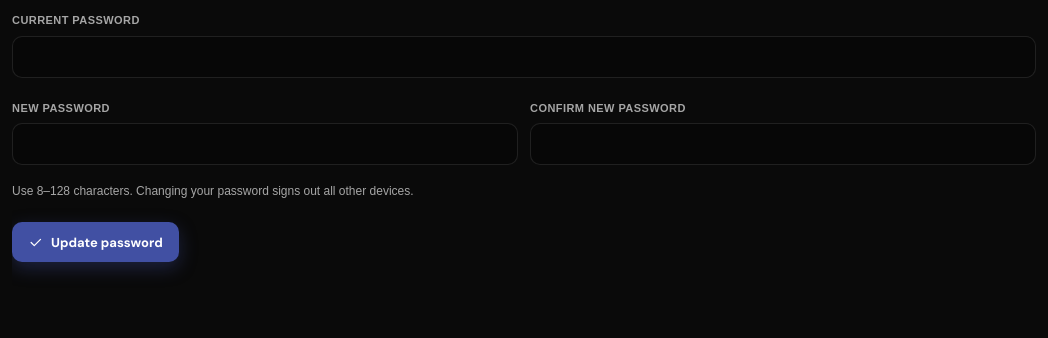
Test: account forms › shows an incorrect-password error without claiming success
Type "old-password" into the password field labelled "Current password" at (524, 56), box x1=12 y1=36 x2=1036 y2=78
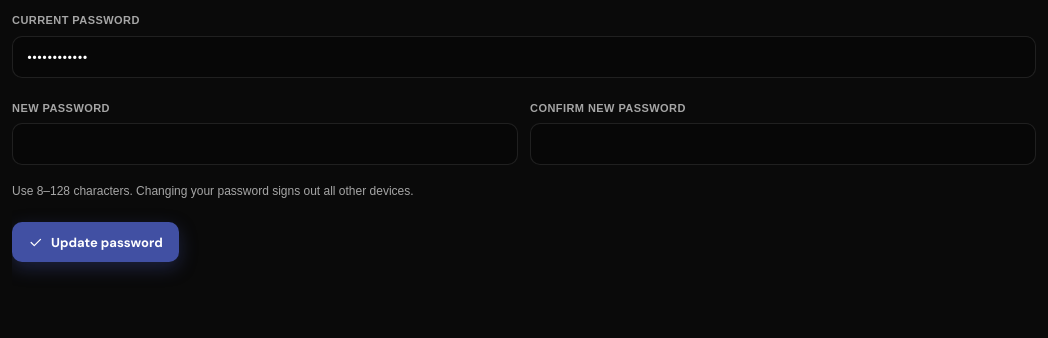
Type "new-password" into the password field labelled "New password" at (265, 144), box x1=12 y1=123 x2=518 y2=165
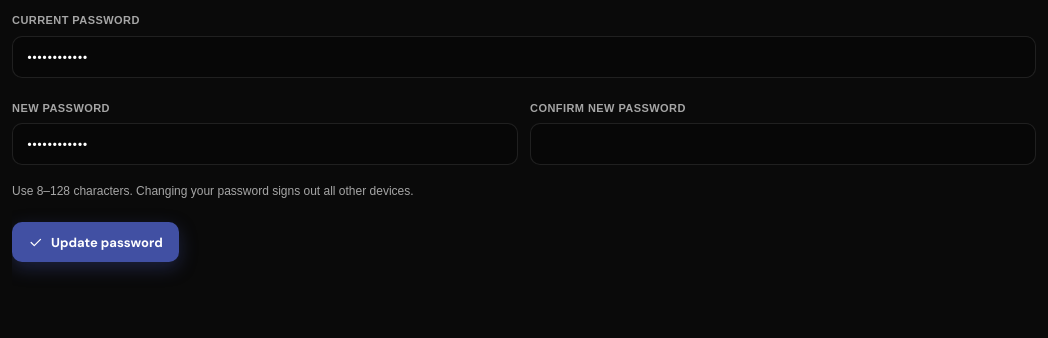
Type "new-password" into the password field labelled "Confirm new password" at (783, 144), box x1=530 y1=123 x2=1036 y2=165
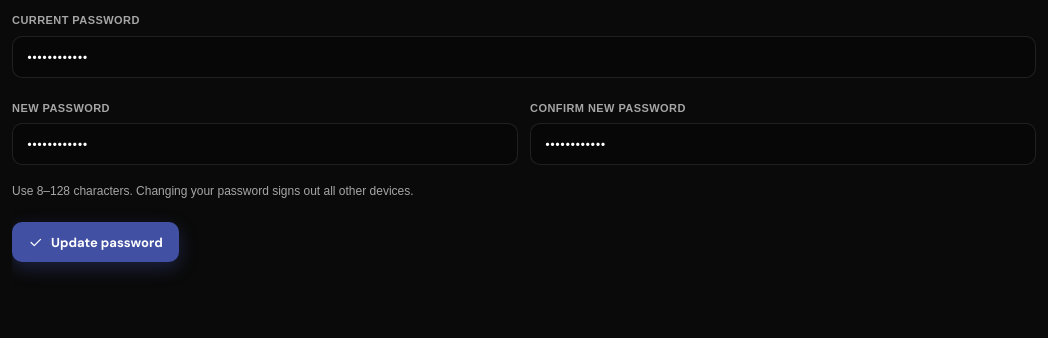
Click the button "Update password" at (95, 242), box x1=12 y1=222 x2=179 y2=262
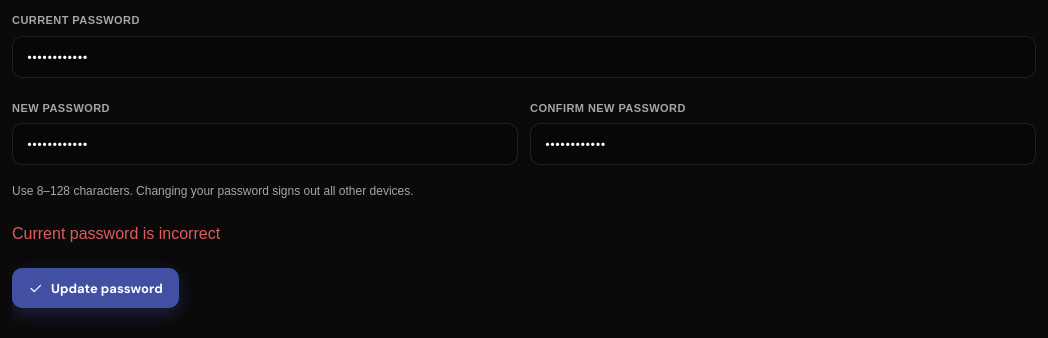
Check: the message shows "incorrect", box x1=12 y1=225 x2=220 y2=242
